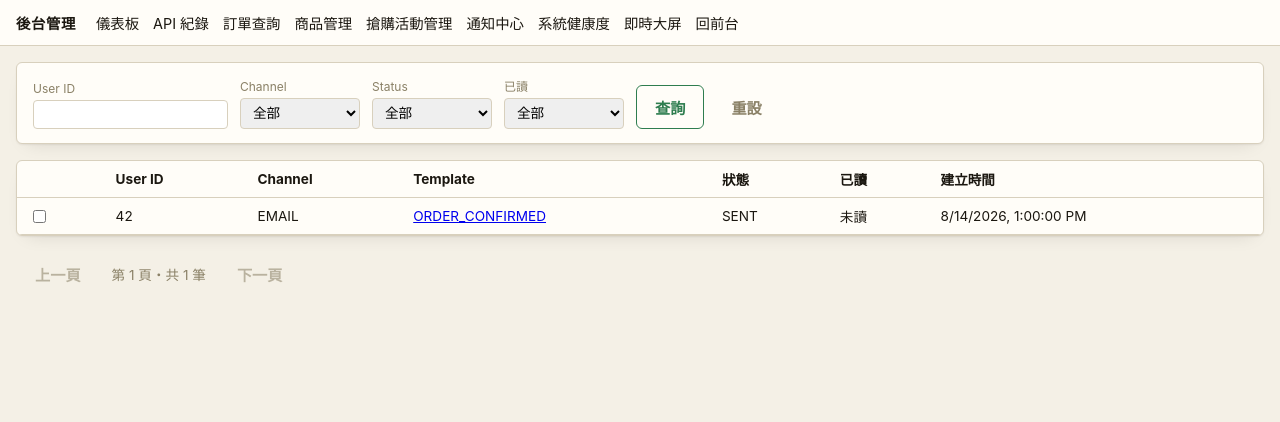
Test: AdminNotificationsPage › shows an error message when the batch read-status update fails
This screenshot has width=1280, height=422.
Expected: the link "ORDER_CONFIRMED" is shown, [413,208,546,224]
What coordinates should you click on to do the following:
click the checkbox named "select notification 1"
I would click on:
 (40, 216)
Its box is [33,210,46,222].
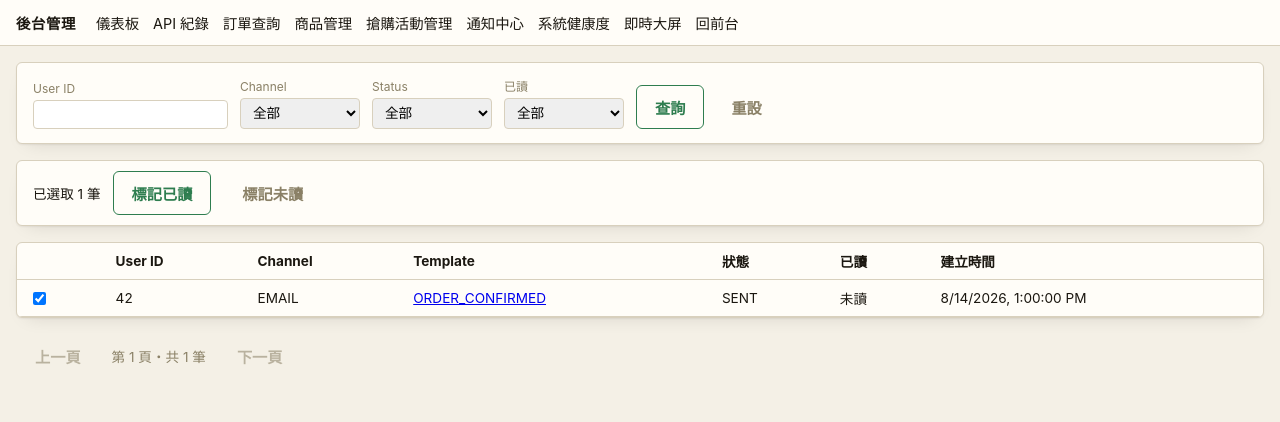
What coordinates should you click on to do the following:
click the button "標記已讀"
I would click on:
 (162, 193)
Its box is [113,171,211,215].
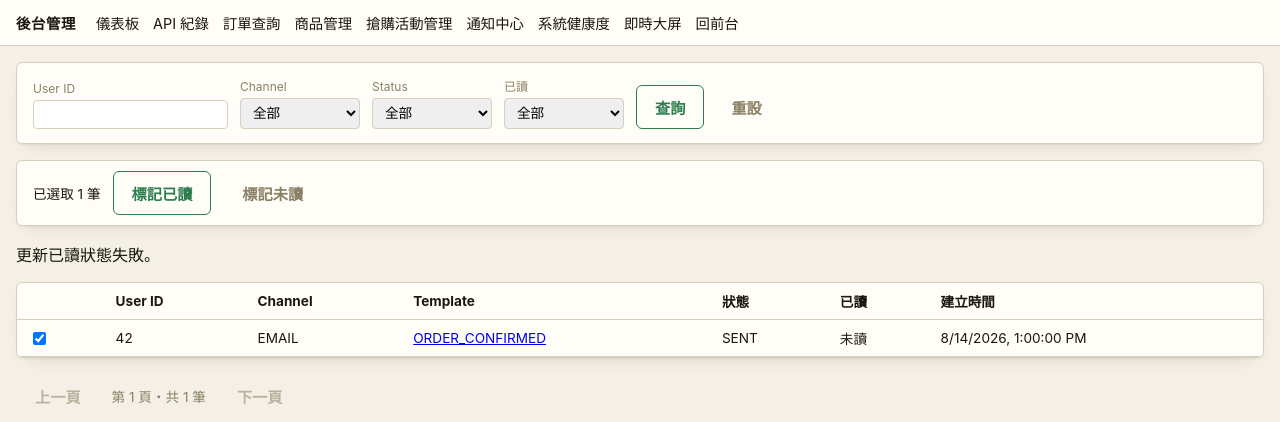
Expected: the message reads "更新已讀狀態失敗。", [16,245,160,265]
